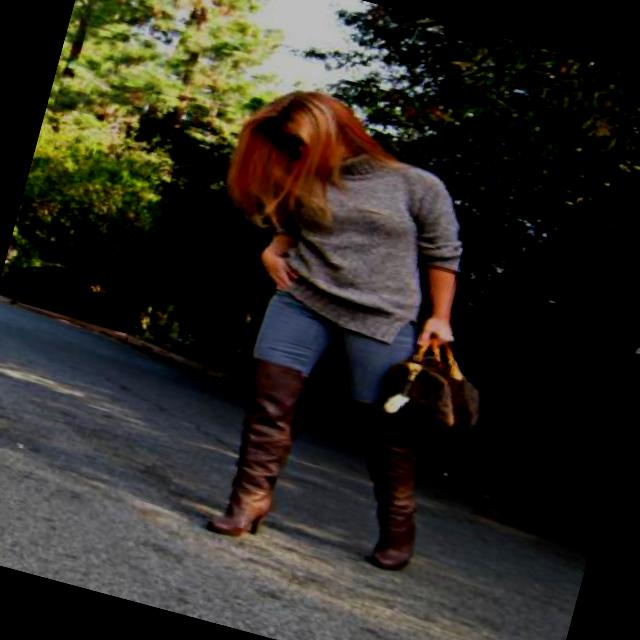Person: (140, 61, 532, 572)
